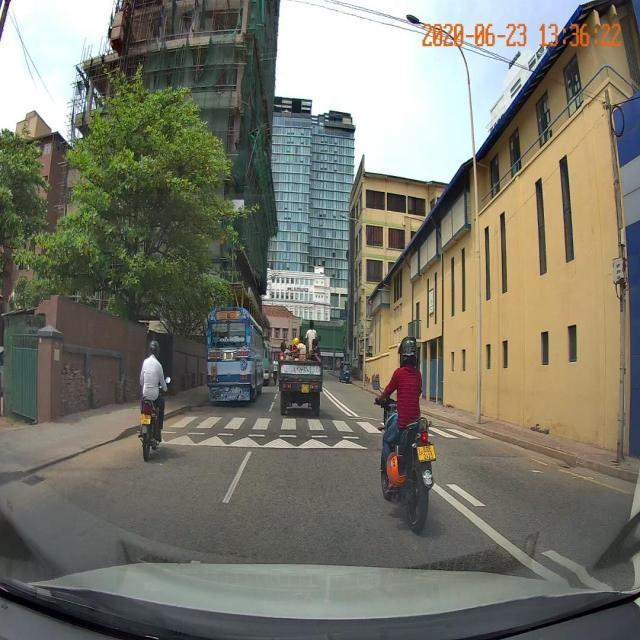Liniya 1: (431, 484, 569, 580), (539, 548, 614, 590), (221, 451, 252, 506), (323, 386, 360, 417), (445, 484, 486, 507), (322, 390, 353, 417), (268, 401, 275, 412), (274, 394, 278, 400)
Perehod: (170, 415, 482, 441)
